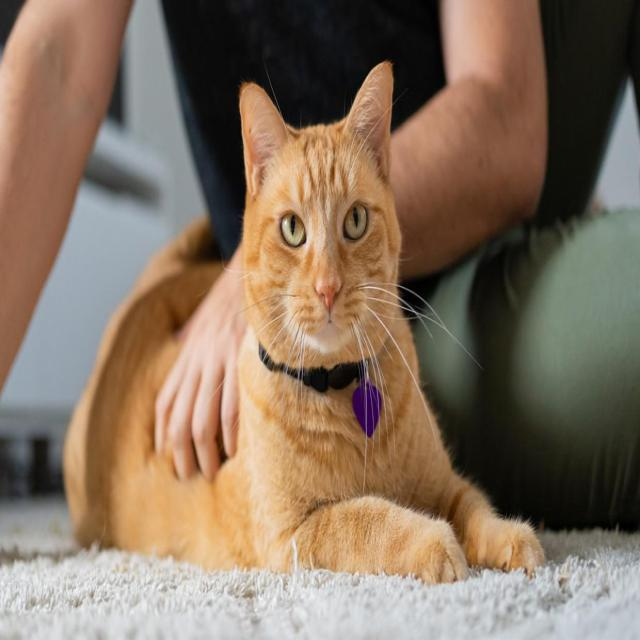Cat: (234, 54, 411, 383)
